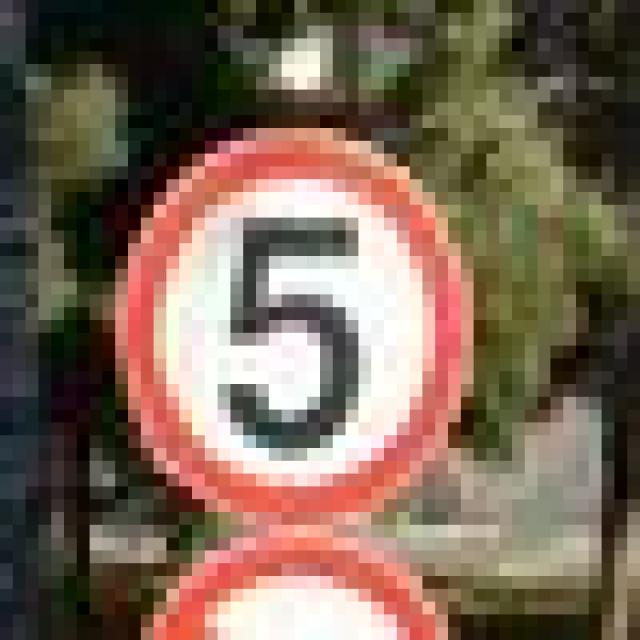SPEED_LIMIT_5: (102, 102, 461, 525)
